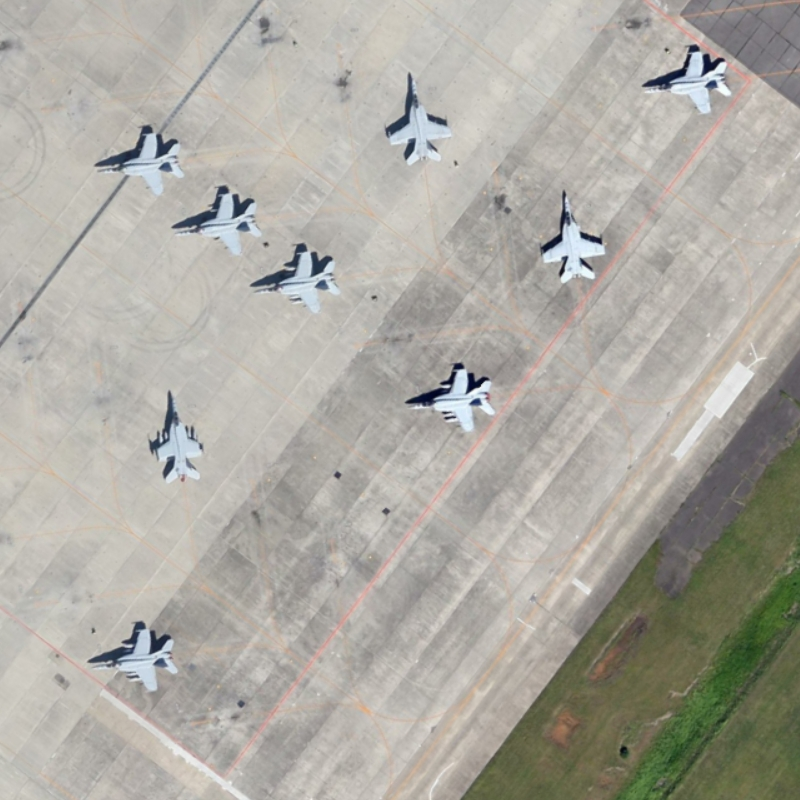A16: (78, 615, 187, 694), (167, 181, 270, 264), (636, 42, 743, 121), (379, 66, 460, 170), (403, 353, 498, 441), (243, 238, 345, 318), (536, 183, 612, 289), (92, 119, 187, 201), (146, 382, 211, 485)
